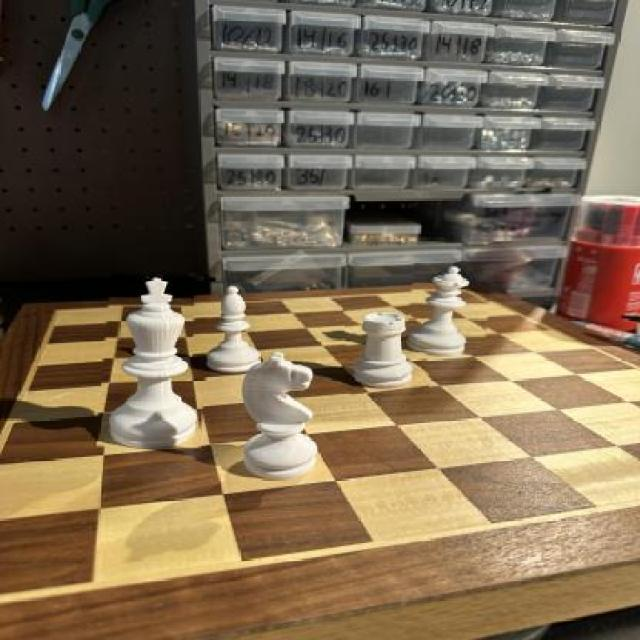black-rook: (194, 282, 269, 374)
white-bishop: (98, 272, 212, 451)
white-king: (232, 357, 331, 487)
white-pawn: (408, 264, 492, 356)
white-queen: (344, 304, 428, 394)
